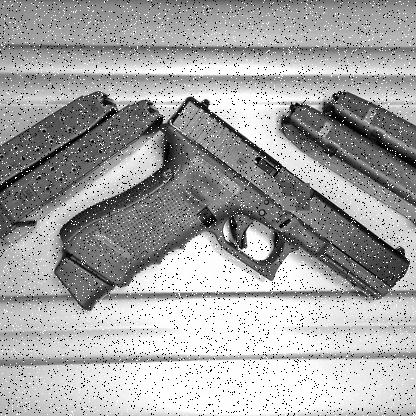gun: (55, 95, 412, 311)
